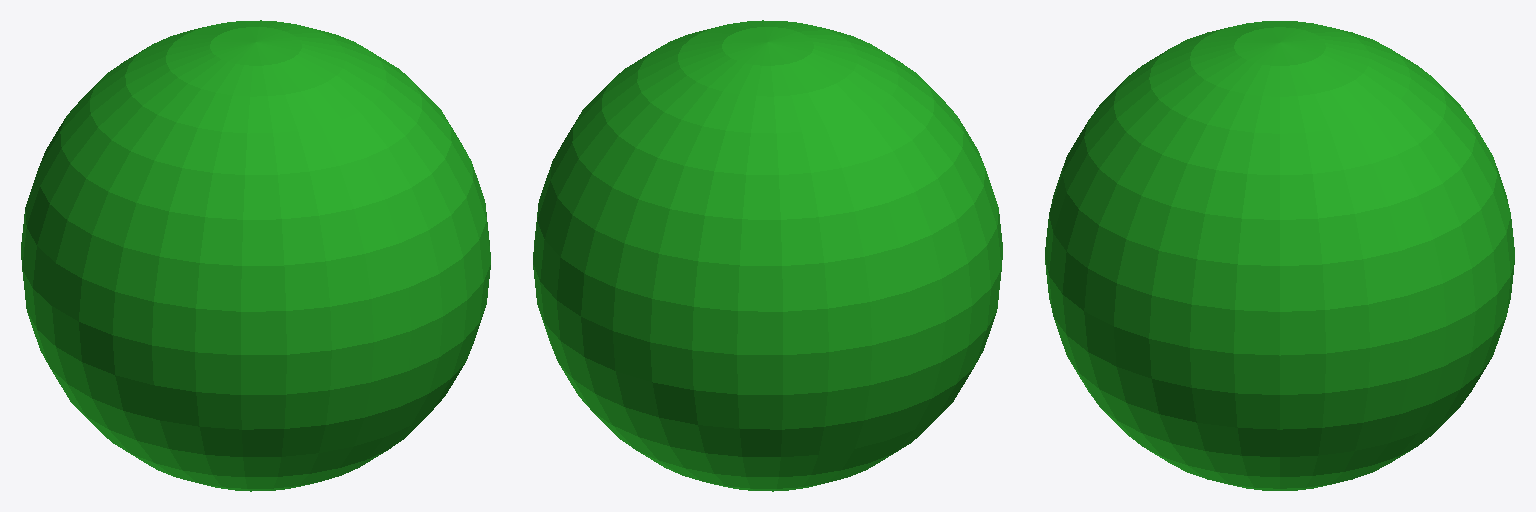
robot.urdf — target:
<robot name="target">

  <material name="green">
    <color rgba="0.2 0.7 0.2 1."/>
  </material>

  <link name="base_link">
    <visual>
      <origin xyz="0. 0. 0." rpy="0. 0. 0." />
      <geometry>  
        <sphere radius="0.04"/>
      </geometry>
      <material name="green" />
    </visual>
    <collision>
      <origin rpy="0 0 0" xyz="0 0 0"/>
      <geometry>
	 	<sphere radius="0.04"/>
      </geometry>
    </collision>
    <inertial>
        <origin xyz="0. 0. 0." rpy="0. 0. 0." />
        <inertia ixz="0.0" ixy="0.0" iyz="0.0" ixx="1.e-4" izz="1.e-4"  iyy="1.e-4" />
        <mass value="0.01" />
    </inertial>
  </link>

</robot>

--- Facts derived from the render (not from the file) ---
3 views of the same robot in one strip: view 1: azimuth 30°, elevation 25°; view 2: azimuth 150°, elevation 25°; view 3: azimuth 270°, elevation 25° (orthographic).
Model target with 1 links and 0 joints (none), rooted at base_link, posed every joint at zero.
Visible links, largest first — view 1: base_link; view 2: base_link; view 3: base_link.
Link boxes in pixels (x1,y1,x2,y2): base_link: (21,20,490,491); base_link: (533,20,1002,491); base_link: (1045,21,1514,490).
Size in the robot's own frame: 0.08 by 0.08 by 0.08 metres.
Geometry: primitives only (box / cylinder / sphere), no mesh files.